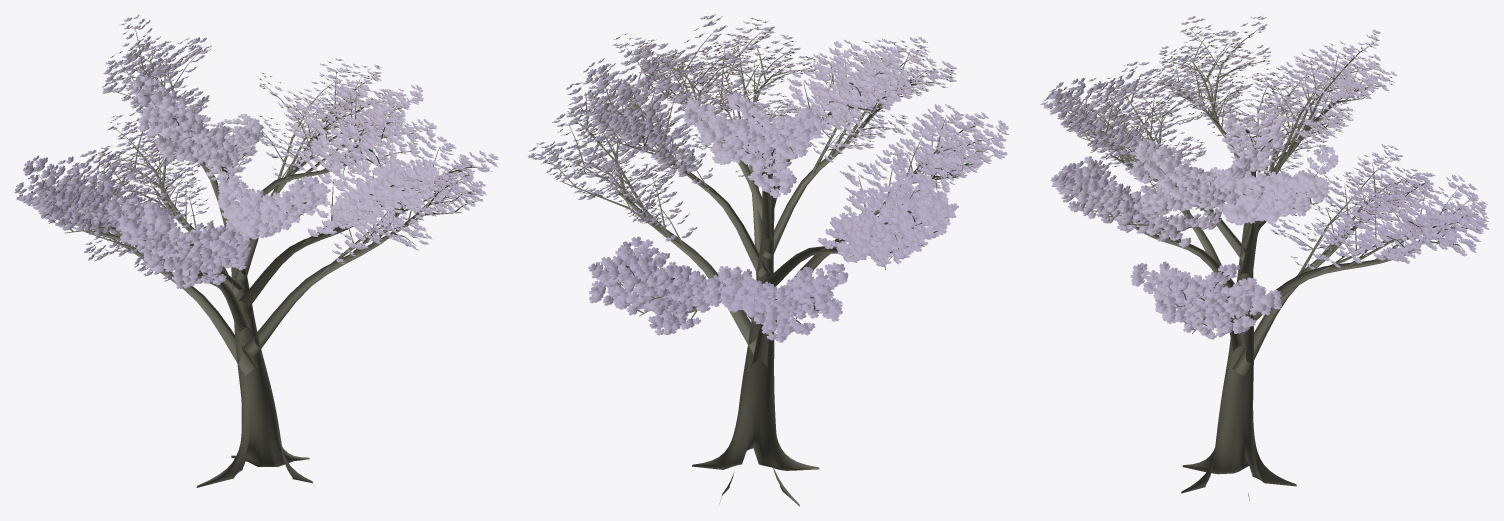
3 renders of one model, left to right at view 1: azimuth 30°, elevation 25°; view 2: azimuth 150°, elevation 25°; view 3: azimuth 270°, elevation 25°, orthographic. The views are drawn at different scales.
Visible parts, largest first — view 1: leaves, branches; view 2: leaves, branches; view 3: leaves, branches.
Boxes of the visible parts, x1,y1,x2,y2 form: leaves: (14, 14, 498, 288); branches: (31, 28, 488, 487); leaves: (528, 14, 1009, 342); branches: (540, 28, 999, 506); leaves: (1040, 16, 1489, 339); branches: (1061, 28, 1478, 500).
Bounding box in the file's own units: 9.26 × 9.21 × 8.73.
